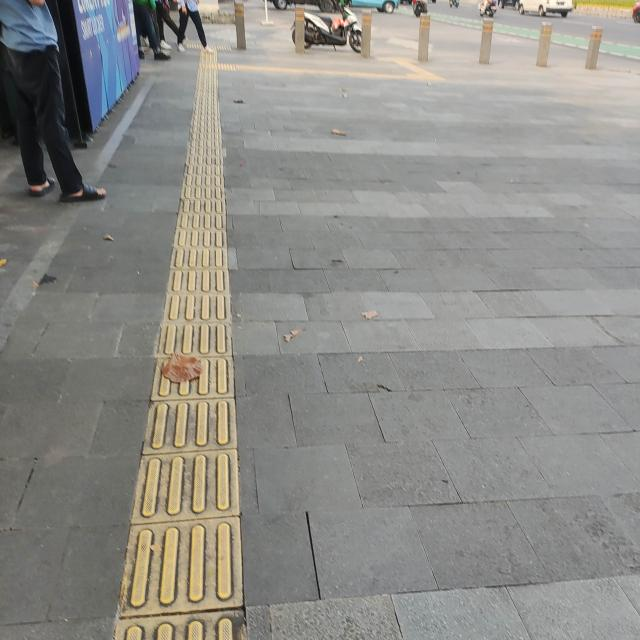lurus: (155, 83, 242, 640)
